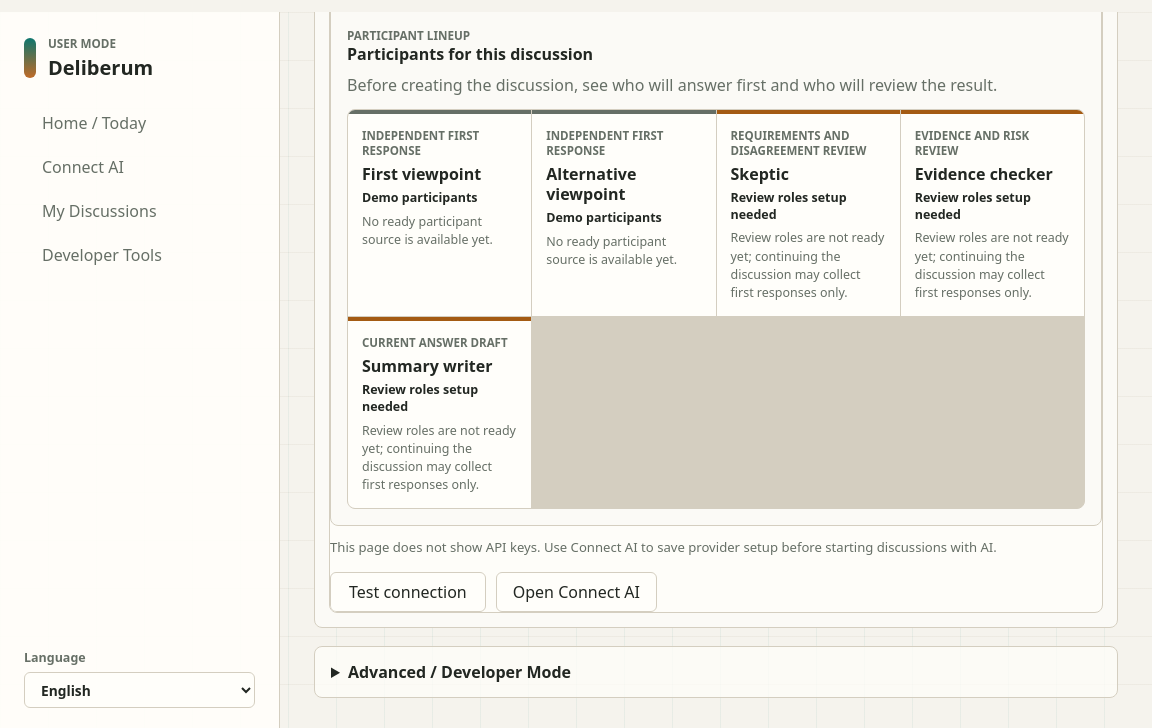
Scenario: @deliberum/web shell › does not describe demo participants as available when only provider verification can unlock the start path
The width and height of the screenshot is (1152, 728).
(page scrolled)
Click the button "Test connection": (408, 592) x1=330 y1=572 x2=486 y2=612
(page scrolled)
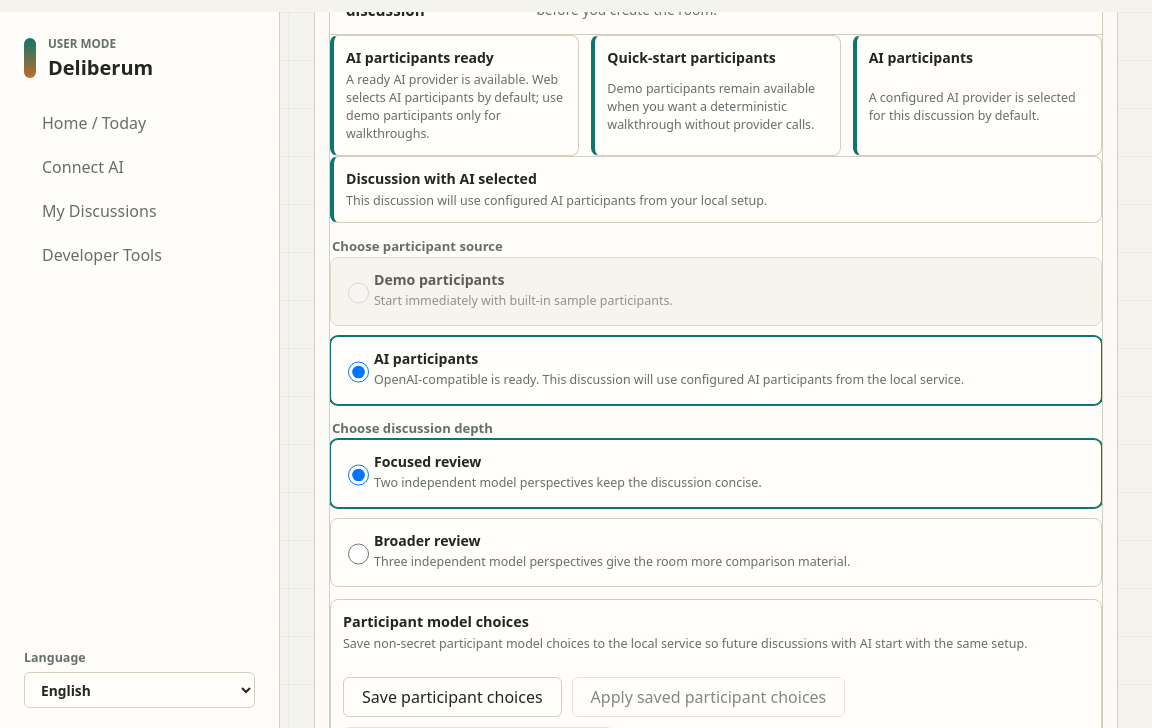
Now the text "Discussion with AI selected" is shown, box x1=346 y1=169 x2=537 y2=188
Now the radio button labelled "AI participants" is checked, box x1=348 y1=352 x2=369 y2=392
